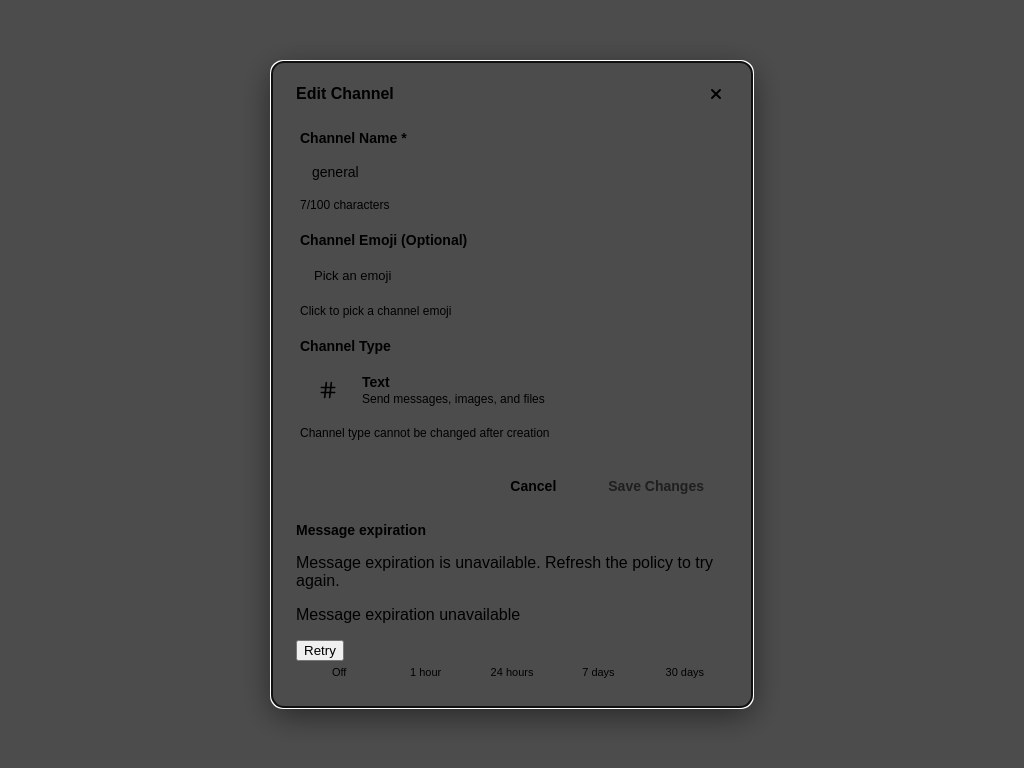
Test: EditChannelModal › submits changes successfully
The image size is (1024, 768).
Replace the text in the field showing "general" with "updated-channel" at (512, 172), box x1=300 y1=154 x2=724 y2=190
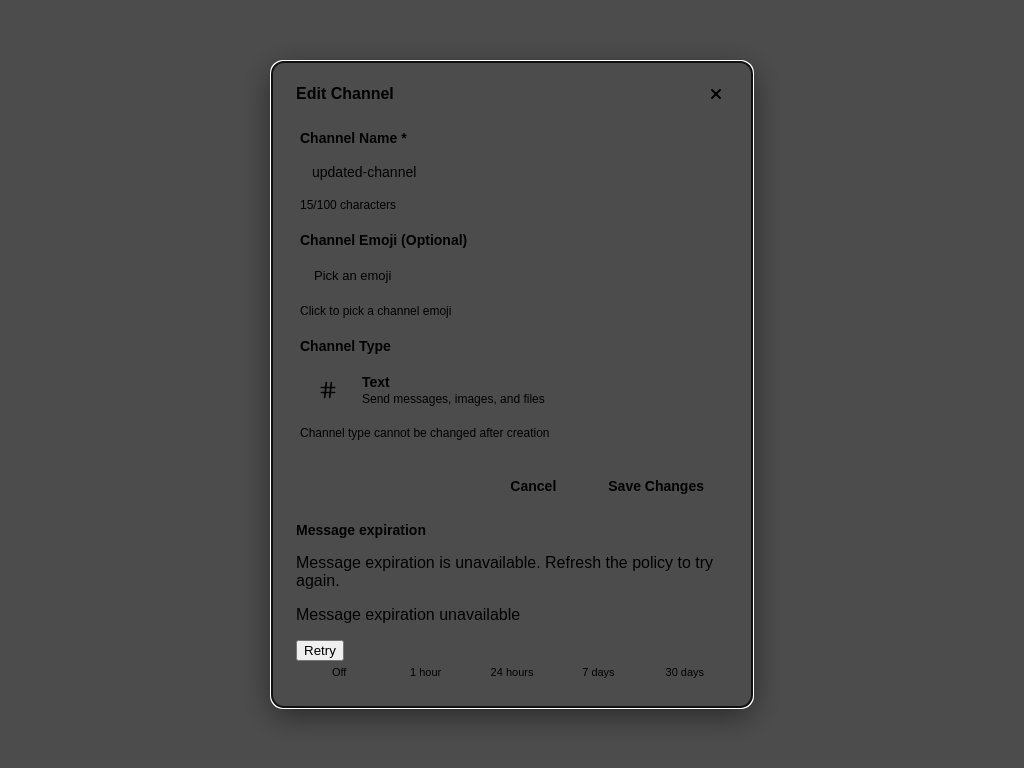
Click the button "Save Changes" at (656, 486), box x1=588 y1=468 x2=724 y2=504
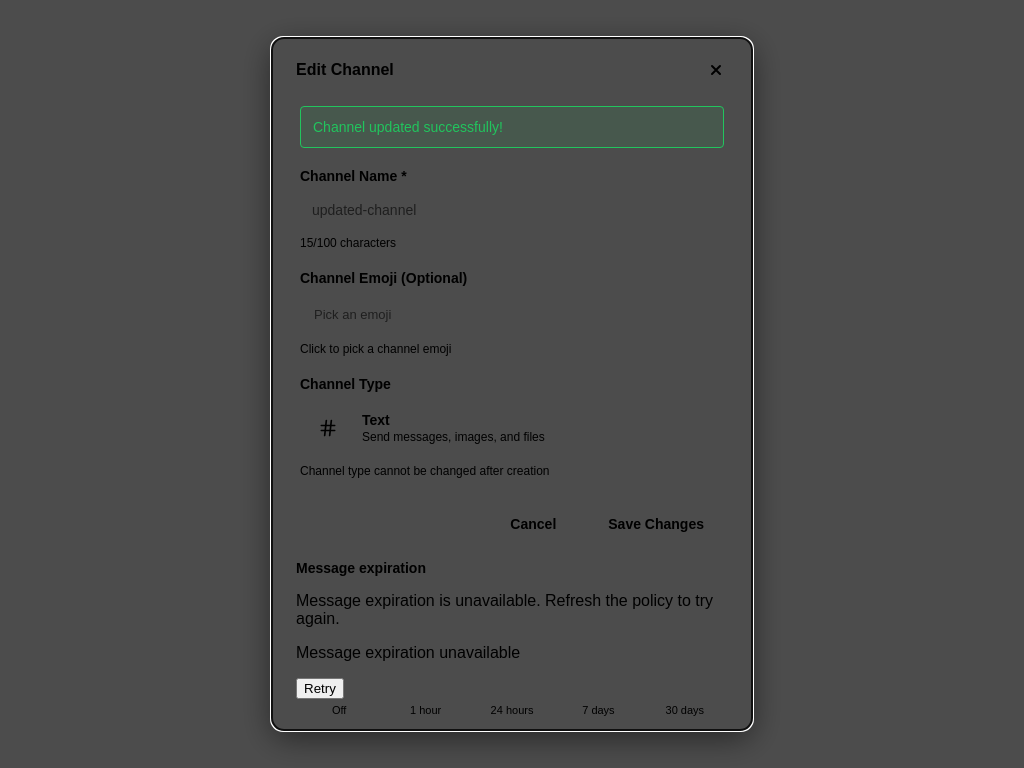
Result: the text "Channel updated successfully!" is shown at x1=300 y1=106 x2=724 y2=148
